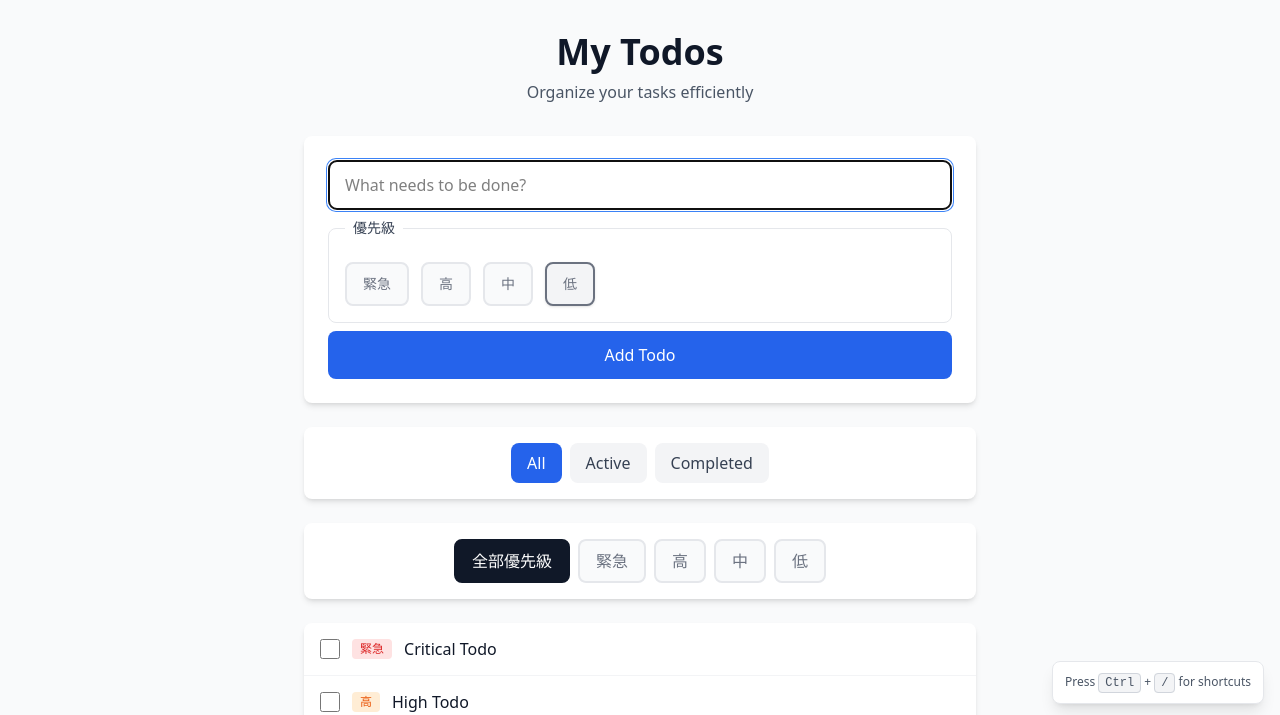
Test: TodoList › Priority Filter Functionality (CR-002) › should clear priority filter when clicking 'All Priorities'
Note: First filter by HIGH
Click the button "高" at [680, 561], box [654,539,706,583]
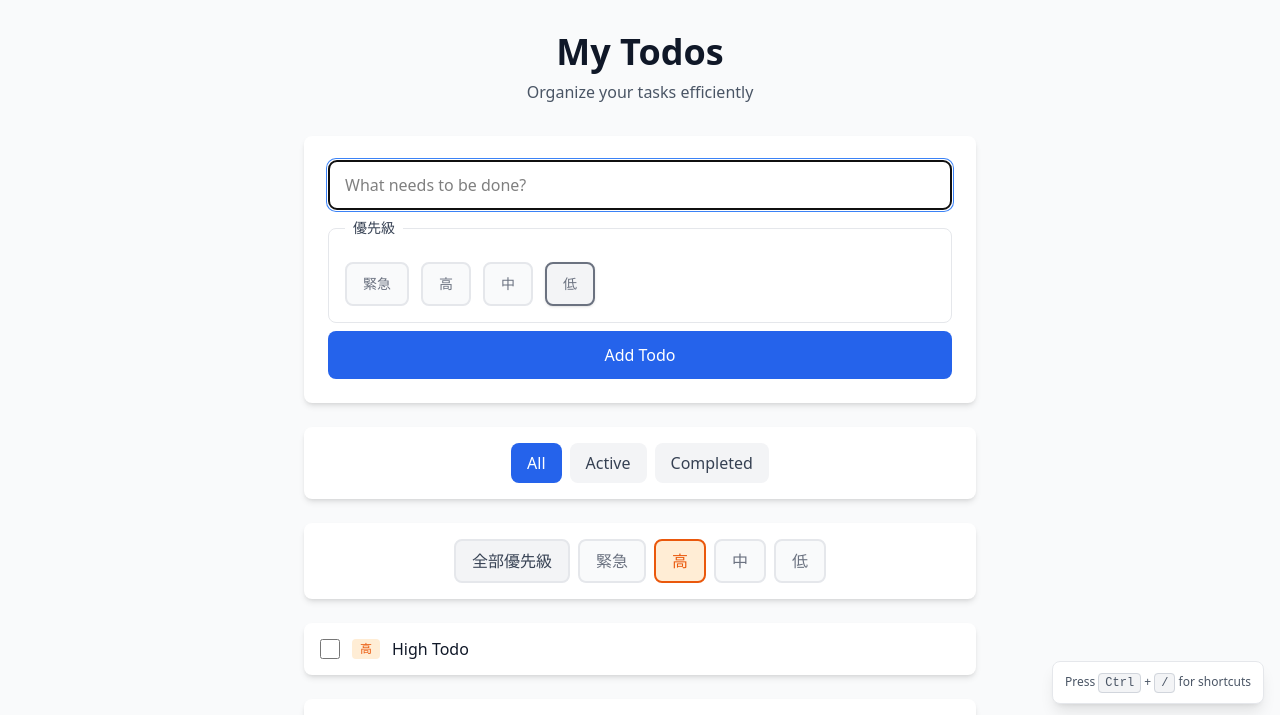
expect the button "High Todo" is shown: met, box [392,638,469,660]
expect the button "Critical Todo" is gone: met
Note: Click 'All Priorities' to clear filter
Click the button with aria-label "all priorities" at [512, 561], box [454,539,570,583]
(page scrolled)
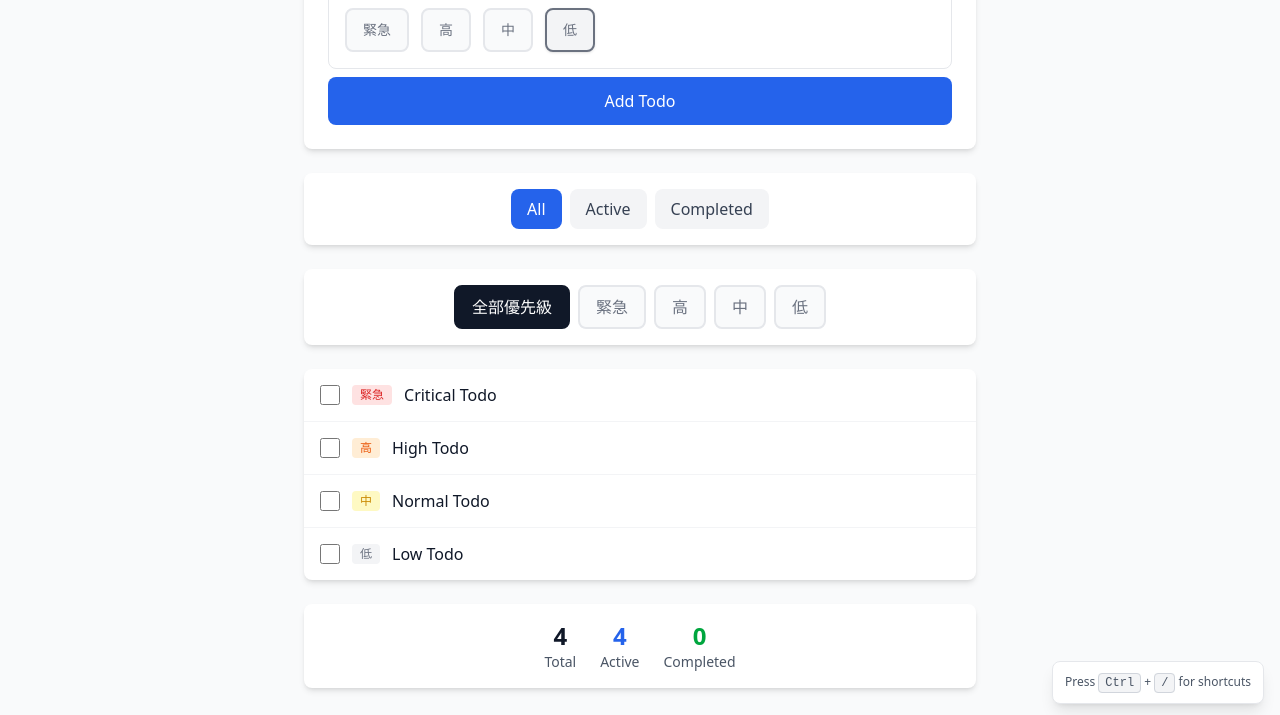
expect the button "Critical Todo" is shown: met, box [404,384,497,406]
expect the button "Normal Todo" is shown: met, box [392,490,490,512]
expect the button "Low Todo" is shown: met, box [392,543,464,565]
